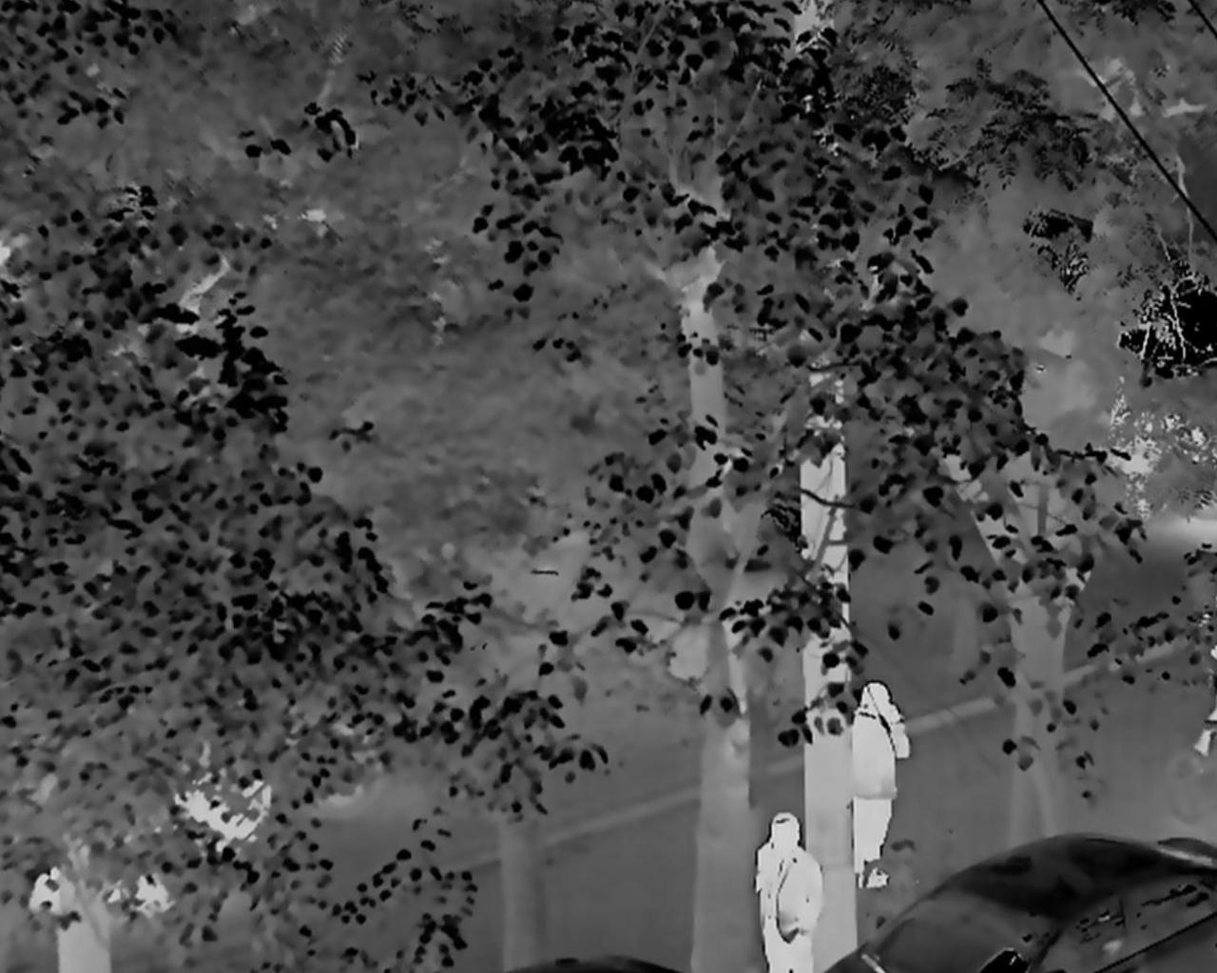person: (852, 683, 915, 890), (759, 814, 821, 973)
